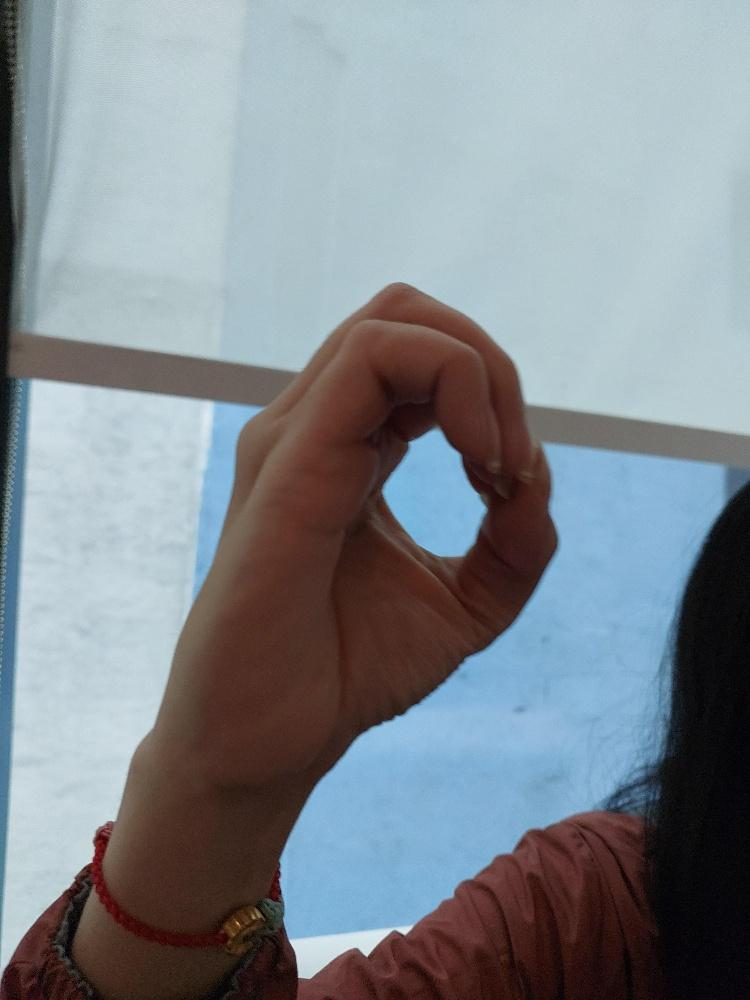o: (174, 276, 564, 819)
